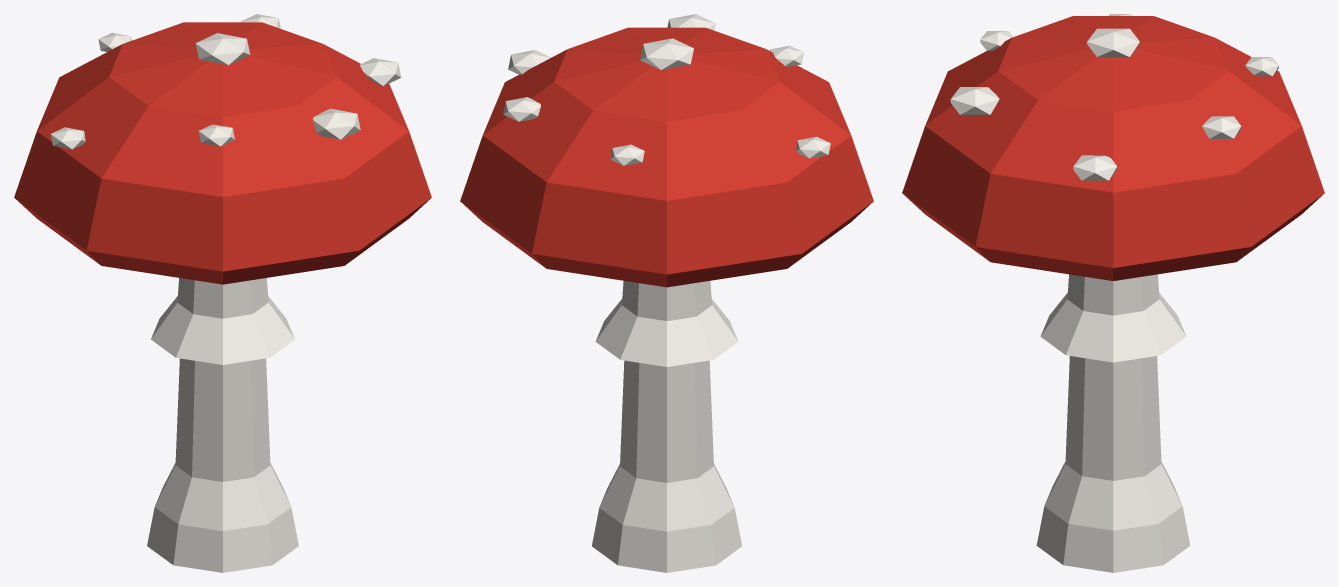
The model's file is mushroom_amanita.glb.
3 views of the same model, side by side, from view 1: azimuth 30°, elevation 25°; view 2: azimuth 150°, elevation 25°; view 3: azimuth 270°, elevation 25° (orthographic). The views are drawn at different scales.
Visible parts, largest first — view 1: mushroom_amanita; view 2: mushroom_amanita; view 3: mushroom_amanita.
Part boxes in pixels (bbox=[...]): mushroom_amanita: bbox=[14, 14, 431, 572]; mushroom_amanita: bbox=[460, 14, 873, 572]; mushroom_amanita: bbox=[902, 14, 1324, 572].
Bounding box in the file's own units: 0.2134 × 0.287 × 0.2167.
Materials: 1 (1 with a texture image).
